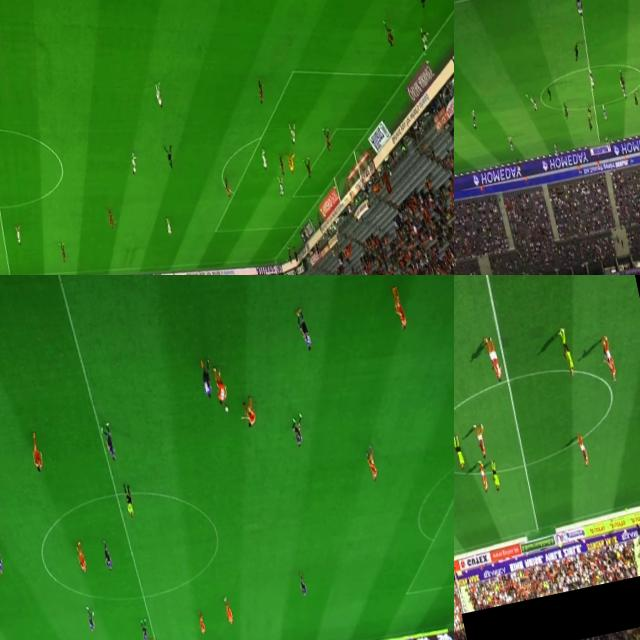ball: (223, 406, 230, 416), (523, 90, 529, 100), (288, 162, 290, 168)
player: (26, 428, 46, 481), (390, 285, 410, 334), (559, 326, 577, 377), (600, 336, 618, 384), (483, 338, 502, 383), (197, 355, 215, 402), (471, 419, 491, 461), (101, 420, 118, 468), (296, 312, 314, 353), (576, 432, 593, 472), (240, 396, 258, 432), (454, 435, 469, 477), (74, 534, 90, 573), (212, 367, 228, 406), (291, 414, 306, 451), (219, 594, 235, 626), (152, 76, 166, 110), (477, 460, 491, 493), (0, 536, 9, 585), (417, 26, 432, 55), (86, 605, 99, 638), (381, 16, 395, 46), (488, 462, 502, 492), (102, 540, 115, 572), (366, 448, 378, 480), (274, 174, 288, 201), (56, 238, 70, 264), (160, 212, 173, 238), (253, 78, 265, 104), (296, 572, 308, 598), (322, 125, 333, 152), (13, 222, 24, 248), (286, 116, 296, 144), (260, 146, 270, 172), (275, 153, 287, 174), (127, 152, 138, 174), (586, 64, 596, 88), (139, 619, 150, 640), (469, 108, 479, 131), (198, 614, 208, 637), (286, 153, 298, 172), (561, 98, 571, 120), (572, 40, 582, 61), (572, 0, 584, 17), (304, 158, 314, 178), (528, 93, 538, 112), (620, 78, 628, 100), (600, 102, 608, 124), (506, 132, 514, 154), (223, 178, 231, 198), (107, 211, 116, 228), (618, 68, 626, 87), (544, 84, 552, 102), (586, 115, 594, 132), (552, 142, 560, 158), (632, 90, 639, 106)
